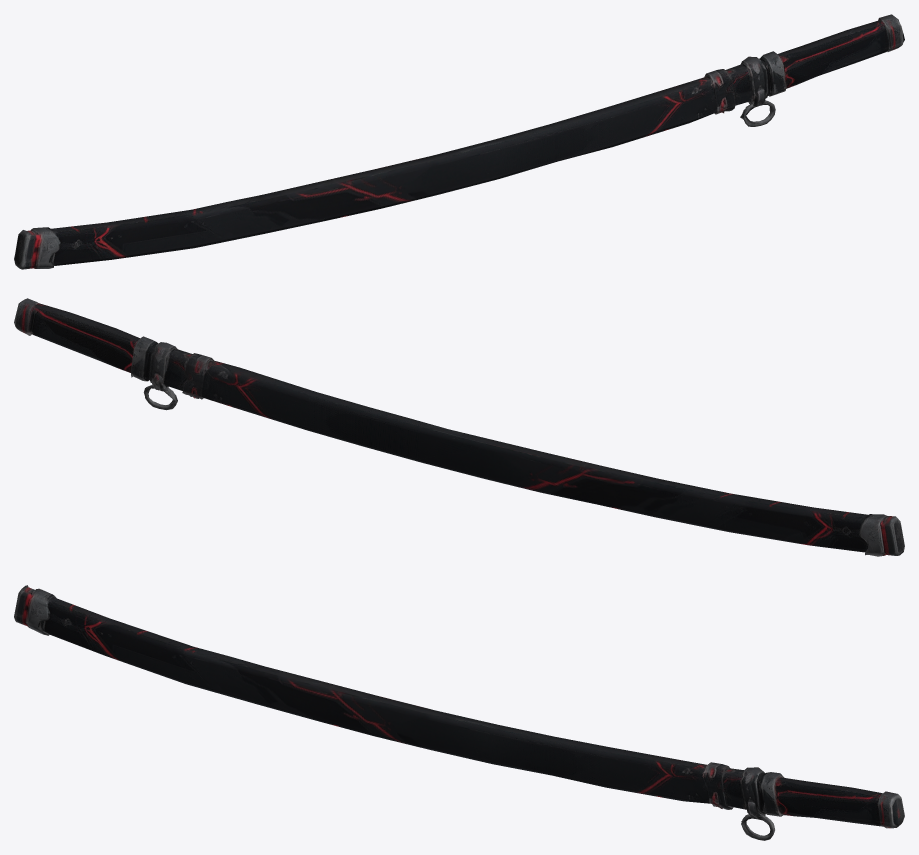
File: SheathOriginal.fbx
3 views of the same model, one above another, from view 1: azimuth 30°, elevation 25°; view 2: azimuth 150°, elevation 25°; view 3: azimuth 330°, elevation 25° (orthographic).
Visible parts, largest first — view 1: Mesh_0; view 2: Mesh_0; view 3: Mesh_0.
Boxes of the visible parts, bbox=[...] form: Mesh_0: bbox=[14, 14, 904, 269]; Mesh_0: bbox=[14, 298, 904, 556]; Mesh_0: bbox=[14, 585, 904, 840].
Bounding box in the file's own units: 95.7 × 7.86 × 2.73.
1 material, 1 textured.
